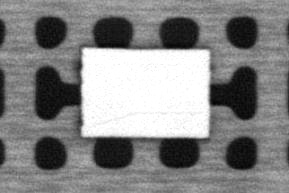DIE_CRACK: (95, 109, 200, 125)
